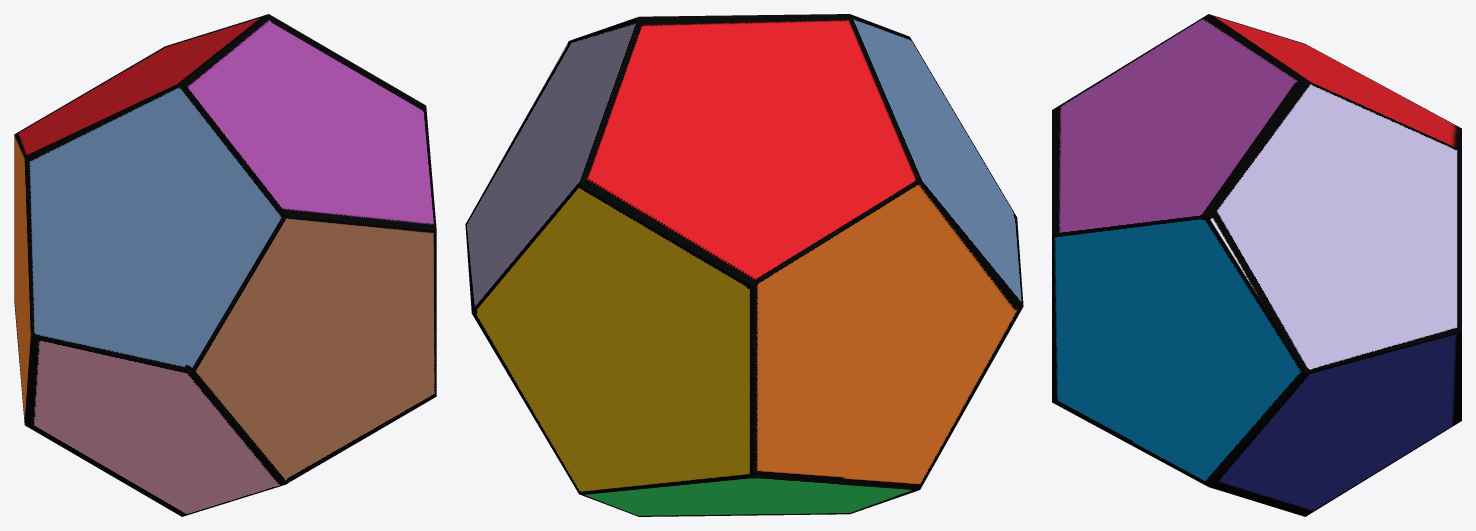
The model's file is Dodecaedro.obj.
3 renders of one model, left to right at view 1: azimuth 30°, elevation 25°; view 2: azimuth 150°, elevation 25°; view 3: azimuth 270°, elevation 25°, orthographic. The views are drawn at different scales.
Visible parts, largest first — view 1: Dodecahedron; view 2: Dodecahedron; view 3: Dodecahedron.
Part boxes in pixels (x1=…): Dodecahedron: x1=14, y1=14, x2=436, y2=516; Dodecahedron: x1=465, y1=14, x2=1023, y2=516; Dodecahedron: x1=1052, y1=14, x2=1461, y2=516.
Size of the model in its own units: 3.12 by 2.97 by 2.53.
